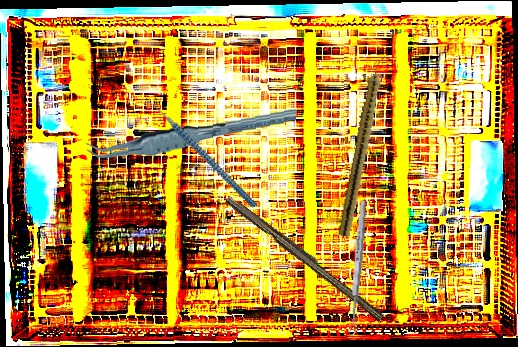Chopper: (138, 75, 258, 233)
Handpiece: (337, 54, 389, 238)
Scalpel Handle: (223, 192, 388, 323)
Surgical Spoon: (347, 199, 368, 337)
Tissue Forceps: (84, 107, 299, 162)
